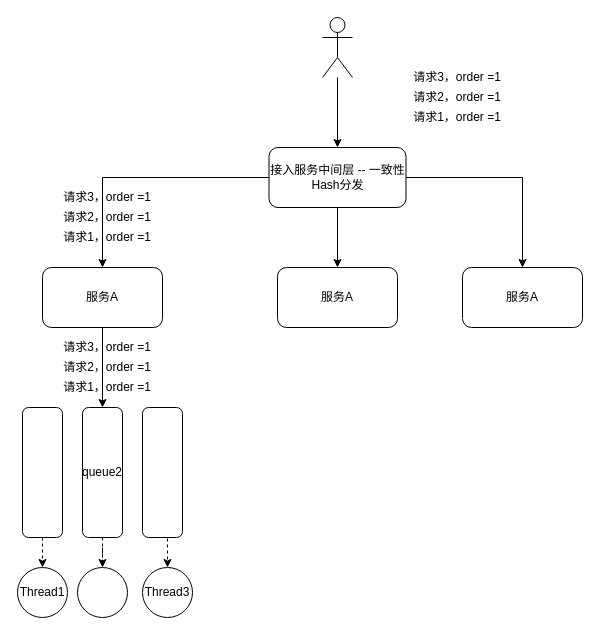
Some shapes in this 600 by 635 pixel diagram are drawn without their labels. Each missing label, with the centre of its shape:
Actor: the point at 337,47
queue1: the point at 42,472
queue3: the point at 162,472
Thread2: the point at 102,592
